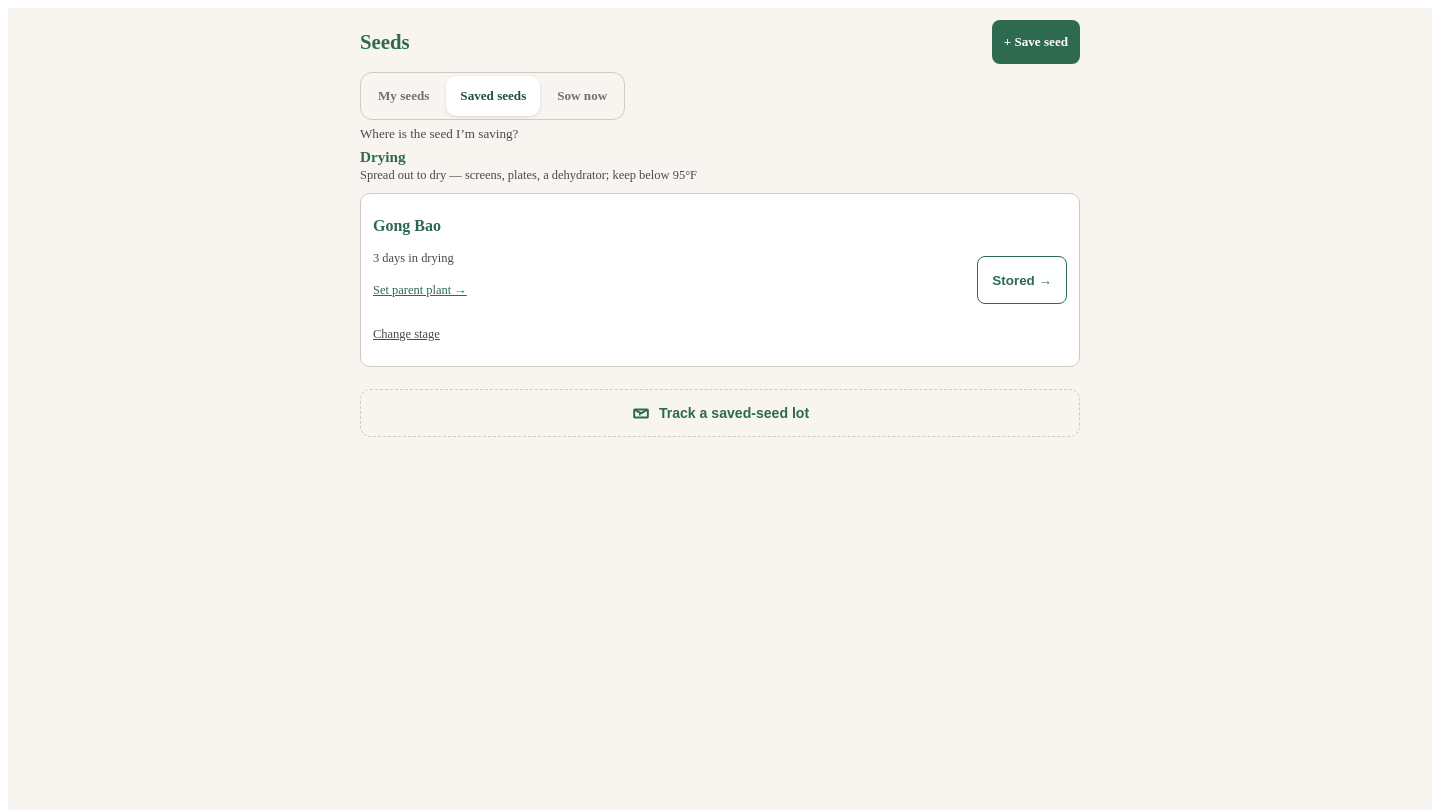
Scenario: Saved seeds — Back closes each sheet in place › the track sheet: armed while open; Back closes it and stays on Seeds › Saved seeds
This screenshot has width=1440, height=810.
Expected: the element with test id "saved-seeds-view" is shown, x1=360 y1=148 x2=1080 y2=437
Step 1. Click the button with test id "track-a-lot" → (720, 413), box x1=360 y1=389 x2=1080 y2=437
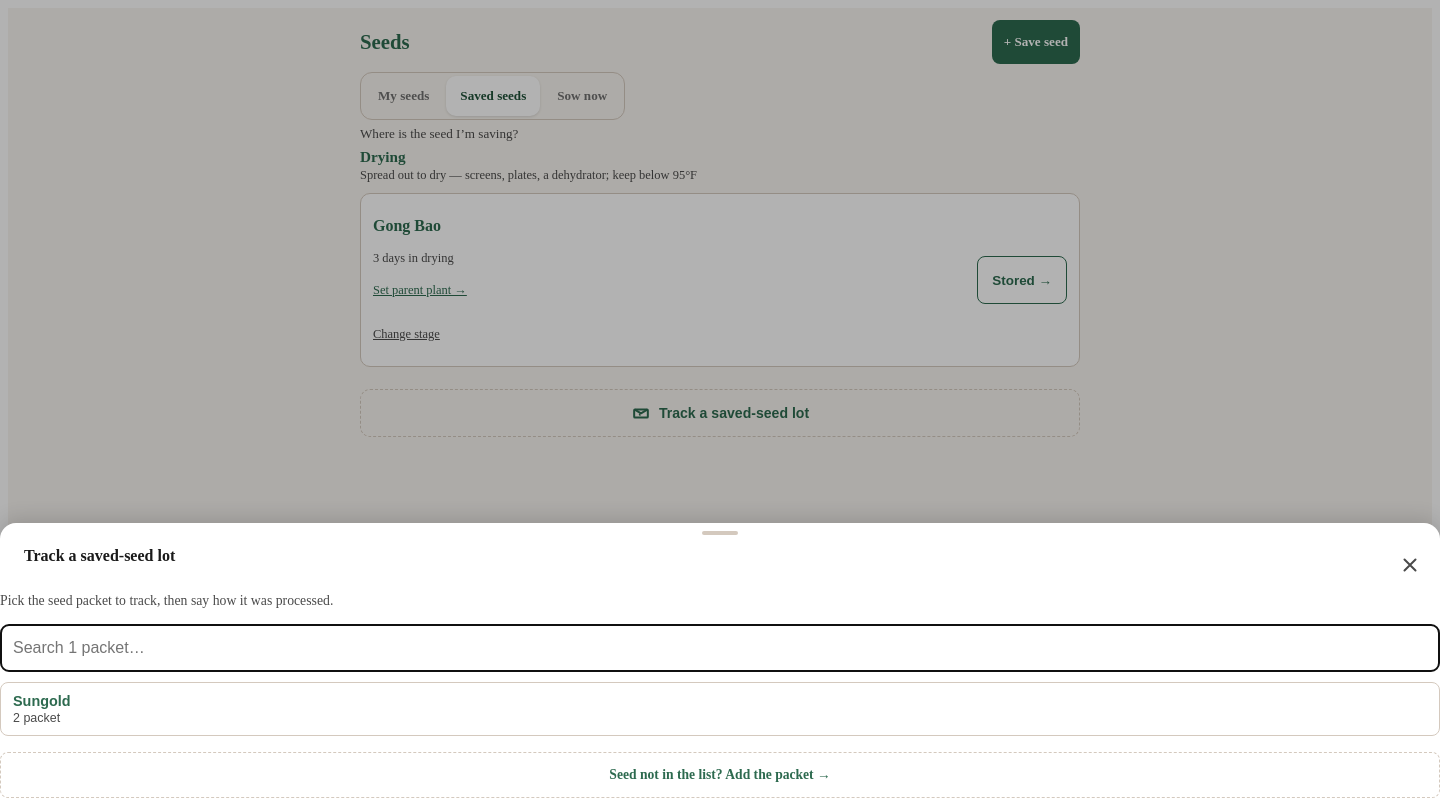
Expected: the link with test id "add-seed-packet" is shown, x1=0 y1=752 x2=1439 y2=798
